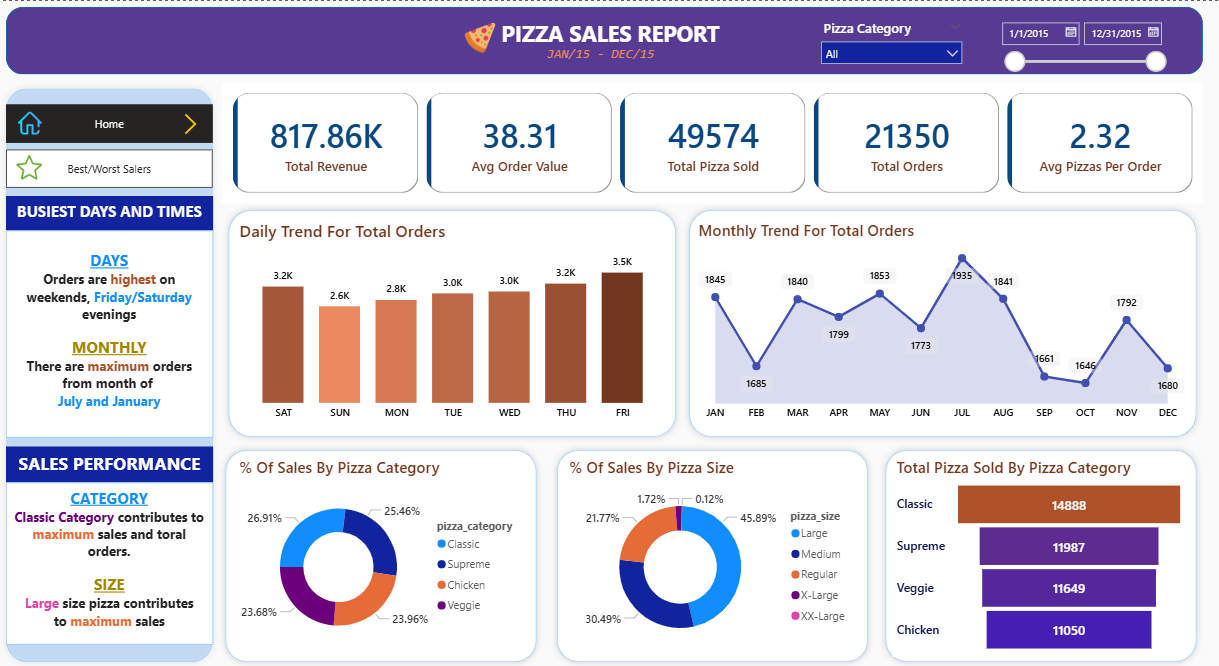

The page's visual inventory and layout, read from the dashboard file:
{"tool":"powerbi","page":{"name":"Home","canvas":[1500,820],"ordinal":0},"visuals":[{"type":"cardVisual","fields":{"Data":["pizza_sales.Total Revenue","pizza_sales.Avg Order Value","pizza_sales.Total Pizza Sold","pizza_sales.Total Orders","pizza_sales.Avg Pizzas Per Order"]},"box":[272.9,99.6,1206.1,149.4],"z":0},{"type":"shape","box":[7.4,7.4,1471.6,83],"z":1000},{"type":"textbox","box":[604.9,16.6,291.4,55.3],"z":2000},{"type":"textbox","box":[667.6,49.8,156.8,33.2],"z":3000},{"type":"image","box":[562.5,25.8,55.3,38.7],"z":4000},{"type":"shape","box":[272.9,249,566.1,295.1],"z":5000},{"type":"columnChart","title":"Daily Trend For Total Orders ","fields":{"Category":["pizza_sales.Order Day"],"Y":["pizza_sales.Total Orders"]},"box":[289.5,269.2,534.8,254.5],"z":6000},{"type":"shape","box":[839.1,249,639.9,295.1],"z":7000},{"type":"shape","box":[0,99.6,269.2,721.1],"z":8000},{"type":"areaChart","title":"Monthly Trend For Total Orders ","fields":{"Y":["pizza_sales.Total Orders"],"Category":["pizza_sales.Order Month"]},"box":[853.8,269.2,606.7,254.5],"z":9000},{"type":"textbox","box":[7.4,239.7,254.5,42.4],"z":10000},{"type":"shape","box":[269.2,544,398.3,276.6],"z":11000},{"type":"shape","box":[676.8,544,398.3,276.6],"z":12000},{"type":"shape","box":[1080.7,544,398.3,276.6],"z":13000},{"type":"donutChart","title":"% Of Sales By Pizza Category","fields":{"Category":["pizza_sales.pizza_category"],"Y":["pizza_sales.Total Revenue"]},"box":[289.5,560.6,361.4,245.3],"z":14000},{"type":"donutChart","title":"% Of Sales By Pizza Size","fields":{"Y":["pizza_sales.Total Revenue"],"Category":["pizza_sales.pizza_size"]},"box":[695.2,560.6,361.4,245.3],"z":15000},{"type":"funnel","title":"Total Pizza Sold By Pizza Category","fields":{"Y":["pizza_sales.Total Pizza Sold"],"Category":["pizza_sales.pizza_category"]},"box":[1097.3,560.6,363.3,245.3],"z":16000},{"type":"textbox","box":[7.4,282.2,254.5,254.5],"z":17000},{"type":"textbox","box":[7.4,547.7,254.5,44.3],"z":18000},{"type":"textbox","box":[7.4,592,254.5,199.2],"z":19000},{"type":"slicer","fields":{"Values":["pizza_sales.pizza_category"]},"box":[999.5,16.6,193.6,64.5],"z":20000},{"type":"slicer","fields":{"Values":["pizza_sales.order_date"]},"box":[1219,16.6,223.1,83],"z":21000},{"type":"pageNavigator","box":[7.4,127.2,254.5,47.9],"z":21001},{"type":"pageNavigator","box":[7.4,182.6,254.5,47.9],"z":21002},{"type":"image","box":[221.3,127.2,25.8,47.9],"z":21003},{"type":"image","box":[22.1,132.8,29.5,35],"z":21004},{"type":"image","box":[20.3,178.9,31.4,51.6],"z":21005}]}

Visuals, with their boxes in screenshot pixels (x1, y1, x2, y2), scaled from the page's 1500x820 canvas onto the 1219x666 screenshot:
cardVisual - pizza_sales.Total Revenue x pizza_sales.Avg Order Value: box=[222, 81, 1202, 202]
shape: box=[6, 6, 1202, 73]
textbox: box=[492, 13, 728, 58]
textbox: box=[543, 40, 670, 67]
image: box=[457, 21, 502, 52]
shape: box=[222, 202, 682, 442]
"Daily Trend For Total Orders " columnChart: box=[235, 219, 670, 425]
shape: box=[682, 202, 1202, 442]
shape: box=[0, 81, 219, 665]
"Monthly Trend For Total Orders " areaChart: box=[694, 219, 1187, 425]
textbox: box=[6, 195, 213, 229]
shape: box=[219, 442, 542, 665]
shape: box=[550, 442, 874, 665]
shape: box=[878, 442, 1202, 665]
"% Of Sales By Pizza Category" donutChart: box=[235, 455, 529, 655]
"% Of Sales By Pizza Size" donutChart: box=[565, 455, 859, 655]
"Total Pizza Sold By Pizza Category" funnel: box=[892, 455, 1187, 655]
textbox: box=[6, 229, 213, 436]
textbox: box=[6, 445, 213, 481]
textbox: box=[6, 481, 213, 643]
slicer - pizza_sales.pizza_category: box=[812, 13, 970, 66]
slicer - pizza_sales.order_date: box=[991, 13, 1172, 81]
pageNavigator: box=[6, 103, 213, 142]
pageNavigator: box=[6, 148, 213, 187]
image: box=[180, 103, 201, 142]
image: box=[18, 108, 42, 136]
image: box=[16, 145, 42, 187]
